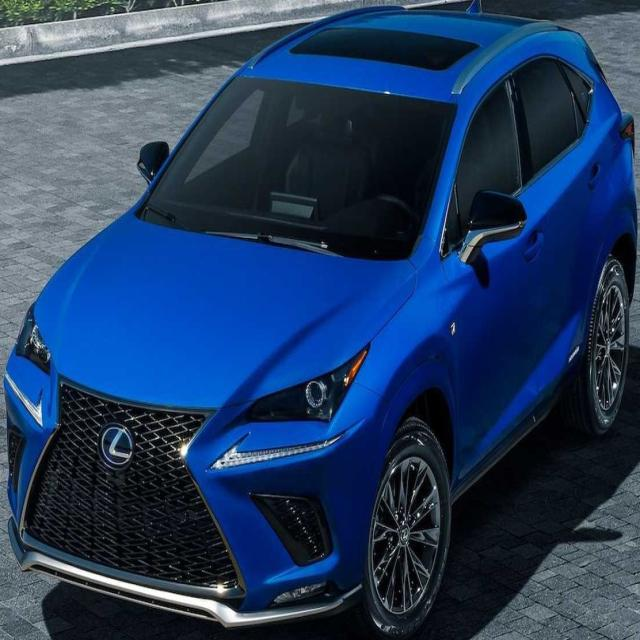blue: (3, 0, 640, 633)
